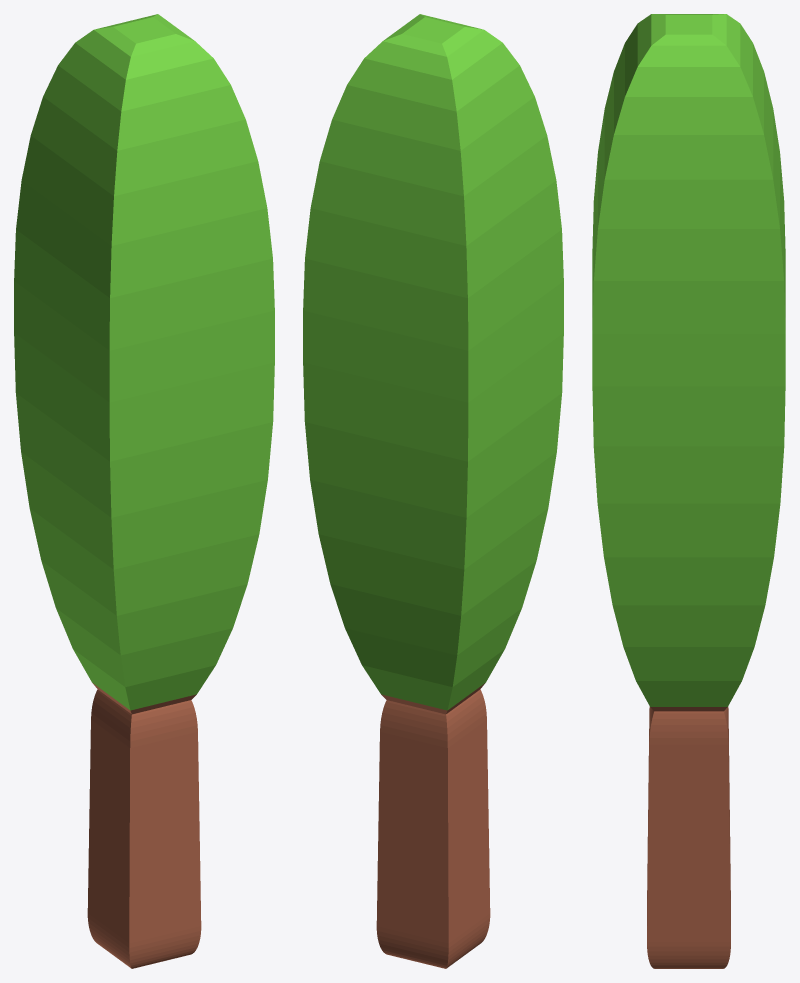
File: Res01_Tree1.fbx
3 views of the same model, side by side, from view 1: azimuth 30°, elevation 25°; view 2: azimuth 150°, elevation 25°; view 3: azimuth 270°, elevation 25° (orthographic).
Parts seen in each view (by area): view 1: Res01_Tree1; view 2: Res01_Tree1; view 3: Res01_Tree1.
Boxes of the visible parts, left/top/right/bottom form: Res01_Tree1: left=14, top=14, right=274, bottom=968; Res01_Tree1: left=303, top=14, right=563, bottom=968; Res01_Tree1: left=592, top=14, right=785, bottom=968.
Size of the model in its own units: 52.5 by 279 by 52.5.
